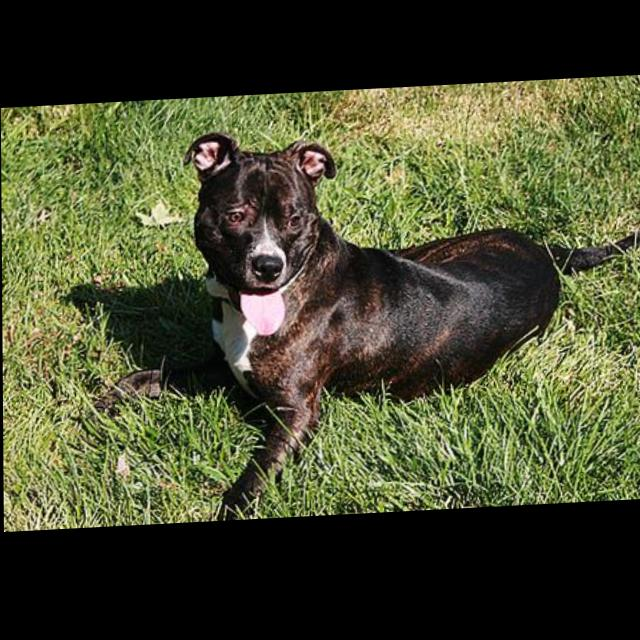amstaff: (92, 118, 640, 530)
